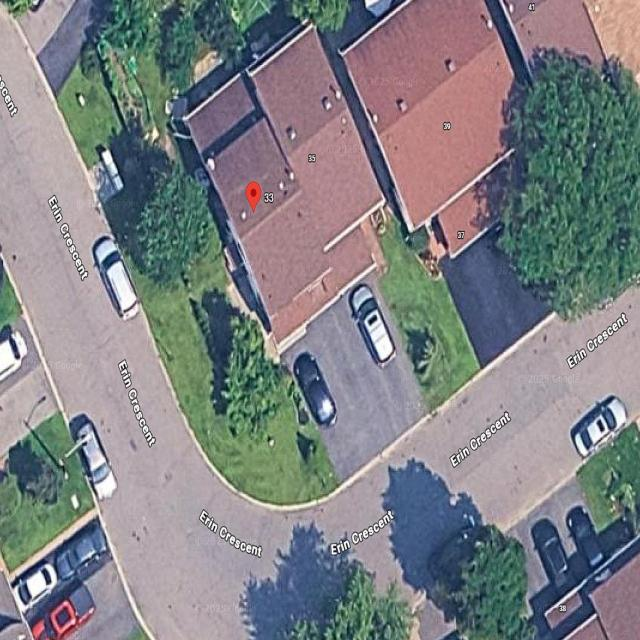Building: (183, 20, 386, 355)
boundaryof property: (56, 0, 480, 513)
obstacle: (346, 285, 397, 369), (295, 356, 340, 429)
walkways: (281, 277, 428, 486)
